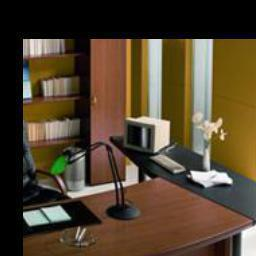Armario: (87, 9, 127, 182)
Bote de Basura: (63, 146, 86, 193)
